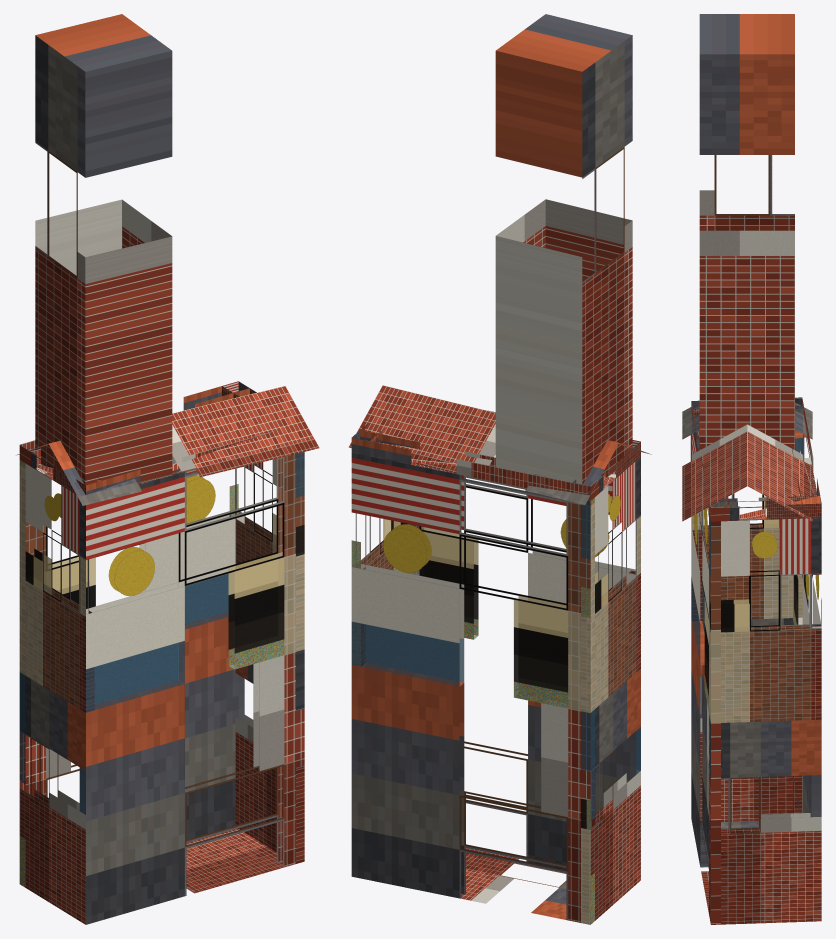
3 renders of one model, left to right at view 1: azimuth 30°, elevation 25°; view 2: azimuth 150°, elevation 25°; view 3: azimuth 270°, elevation 25°, orthographic. The views are drawn at different scales.
Parts seen in each view (by area): view 1: 534916376__wall_3_xb, 534916376__chimney_0_xb, 534916376__wall_1_xb, 534916376__wall_2_xb, 534916376_roof_-1_xb, 534916376__wall_3_xf, 534916376__wall_0_xb, 534916376__wall_1_xf, 534916376__base, 534916376__cornice_1, 534916376__cornice_3, 534916376__wall_0_xf (+2 smaller); view 2: 534916376__wall_1_xb, 534916376__chimney_0_xb, 534916376__wall_2_xb, 534916376__wall_3_xb, 534916376__wall_1_xf, 534916376_roof_1_xb, 534916376__cornice_1, 534916376__wall_3_xf, 534916376__base, 534916376__wall_2_xf, 534916376__wall_0_xb, 534916376__cornice_2; view 3: 534916376__chimney_0_xb, 534916376__wall_0_xb, 534916376__wall_3_xb, 534916376__wall_2_xb, 534916376_roof_-1_xb, 534916376_roof_1_xb, 534916376__wall_1_xb, 534916376__cornice_0, 534916376__wall_0_xf, 534916376__wall_3_xf, 534916376__base, 534916376__cornice_3 (+1 smaller).
Boxes of the visible parts, left/top/right/bottom form: 534916376__wall_3_xb: left=79, top=452, right=304, bottom=924; 534916376__chimney_0_xb: left=35, top=14, right=172, bottom=485; 534916376__wall_1_xb: left=19, top=460, right=244, bottom=887; 534916376__wall_2_xb: left=19, top=463, right=94, bottom=924; 534916376_roof_-1_xb: left=49, top=386, right=319, bottom=505; 534916376__wall_3_xf: left=80, top=554, right=283, bottom=814; 534916376__wall_0_xb: left=229, top=452, right=304, bottom=863; 534916376__wall_1_xf: left=20, top=461, right=228, bottom=886; 534916376__base: left=186, top=828, right=282, bottom=893; 534916376__cornice_1: left=19, top=381, right=249, bottom=466; 534916376__cornice_3: left=86, top=430, right=276, bottom=494; 534916376__wall_0_xf: left=230, top=452, right=304, bottom=555; 534916376__wall_1_xb: left=351, top=453, right=594, bottom=924; 534916376__chimney_0_xb: left=495, top=14, right=632, bottom=484; 534916376__wall_2_xb: left=581, top=457, right=640, bottom=924; 534916376__wall_3_xb: left=398, top=473, right=640, bottom=869; 534916376__wall_1_xf: left=352, top=498, right=594, bottom=923; 534916376_roof_1_xb: left=348, top=385, right=618, bottom=504; 534916376__cornice_1: left=351, top=430, right=599, bottom=500; 534916376__wall_3_xf: left=420, top=527, right=640, bottom=773; 534916376__base: left=461, top=848, right=566, bottom=919; 534916376__wall_2_xf: left=581, top=501, right=607, bottom=829; 534916376__wall_0_xb: left=351, top=513, right=406, bottom=666; 534916376__cornice_2: left=572, top=440, right=640, bottom=501; 534916376__chimney_0_xb: left=699, top=14, right=794, bottom=449; 534916376__wall_0_xb: left=710, top=517, right=821, bottom=924; 534916376__wall_3_xb: left=691, top=430, right=720, bottom=924; 534916376__wall_2_xb: left=691, top=438, right=802, bottom=822; 534916376_roof_-1_xb: left=682, top=406, right=747, bottom=521; 534916376_roof_1_xb: left=747, top=402, right=812, bottom=521; 534916376__wall_1_xb: left=793, top=437, right=821, bottom=816; 534916376__cornice_0: left=710, top=495, right=821, bottom=520; 534916376__wall_0_xf: left=710, top=520, right=749, bottom=631; 534916376__wall_3_xf: left=691, top=544, right=708, bottom=717; 534916376__base: left=700, top=820, right=758, bottom=913; 534916376__cornice_3: left=691, top=400, right=729, bottom=521.
Size of the model in its own units: 0.4092 by 1.4 by 0.2194.
1 material, 1 textured.
